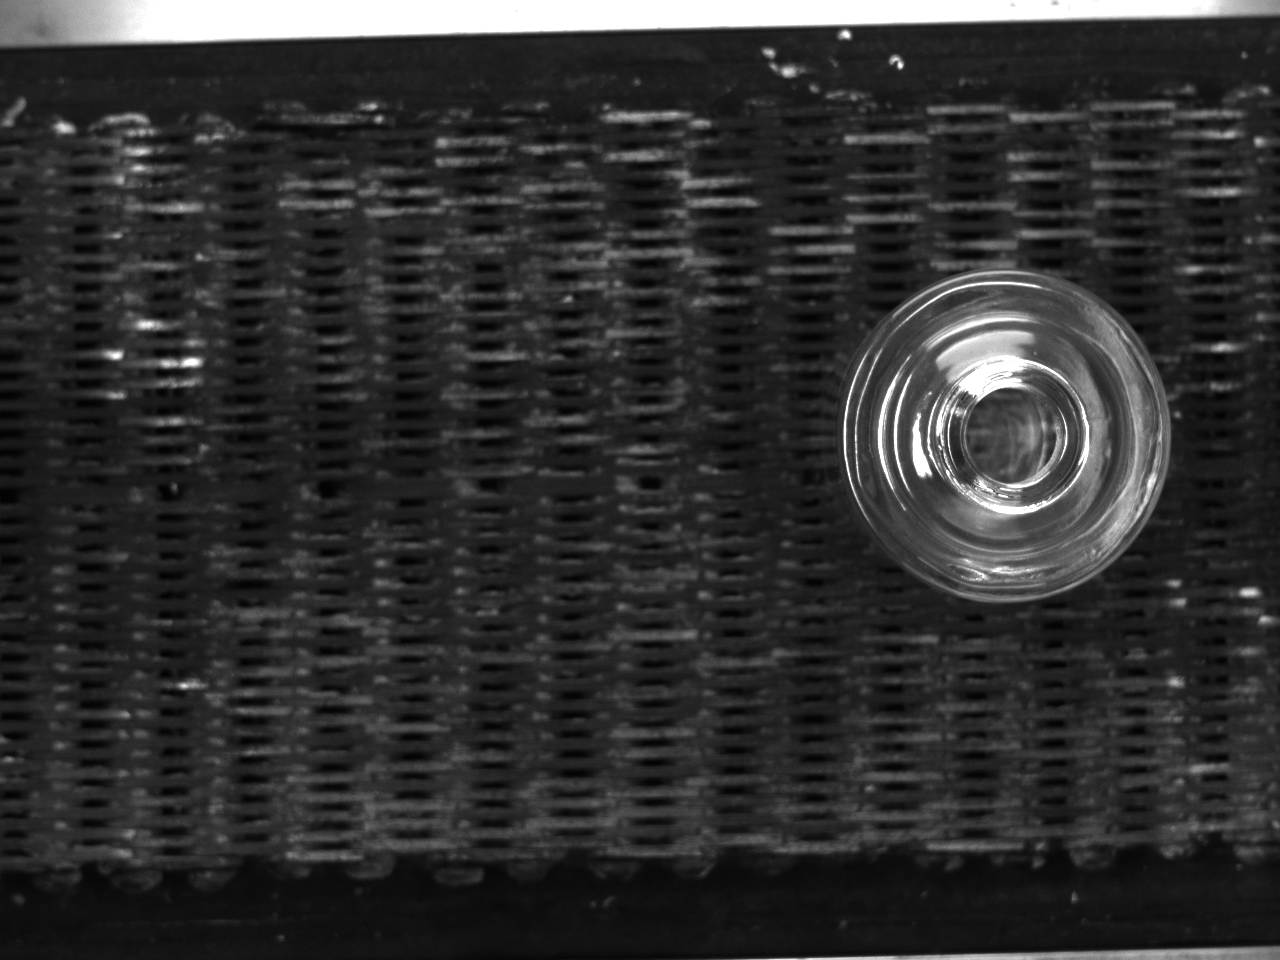bottleneck: (942, 359, 1091, 514)
